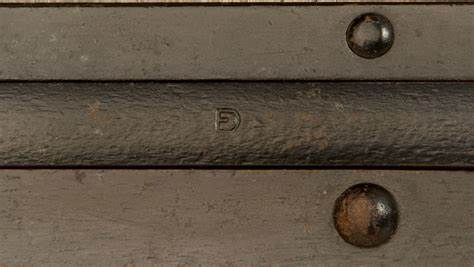rivet: (332, 180, 403, 249), (344, 11, 398, 62)
